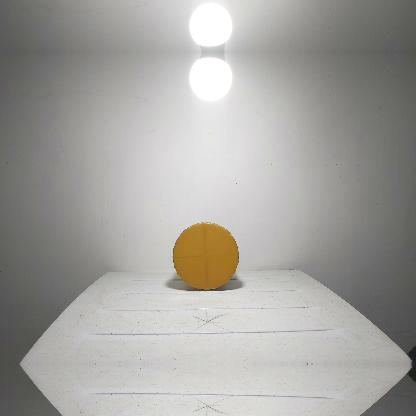Lady-s-Choice: (172, 222, 238, 290)
